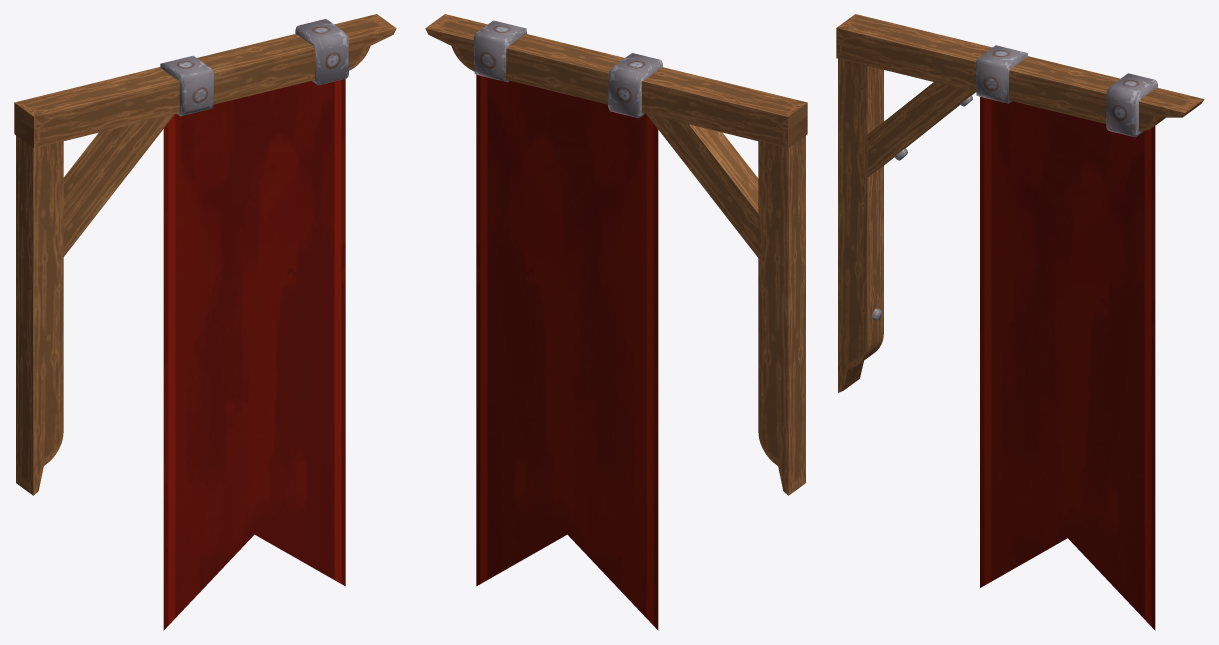
The model's file is Banner_1.gltf.
3 renders of one model, left to right at view 1: azimuth 30°, elevation 25°; view 2: azimuth 150°, elevation 25°; view 3: azimuth 330°, elevation 25°, orthographic. The views are drawn at different scales.
Visible parts, largest first — view 1: Banner_1; view 2: Banner_1; view 3: Banner_1.
Boxes of the visible parts, x1=… form: Banner_1: x1=14, y1=14, x2=396, y2=630; Banner_1: x1=425, y1=14, x2=807, y2=630; Banner_1: x1=836, y1=14, x2=1204, y2=630.
Size of the model in its own units: 1.61 by 2.39 by 0.1906.
3 materials, 3 textured.
